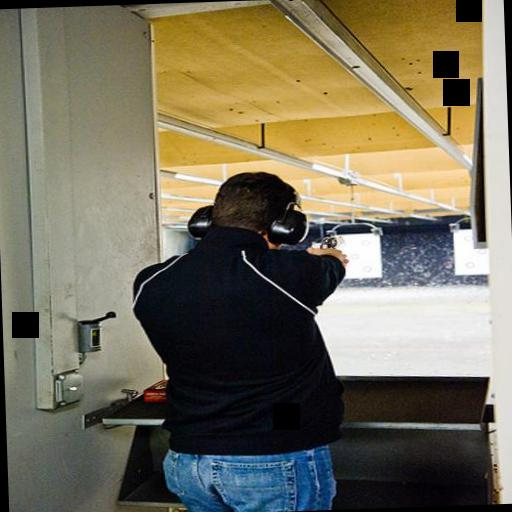Handgun: (319, 233, 337, 249)
